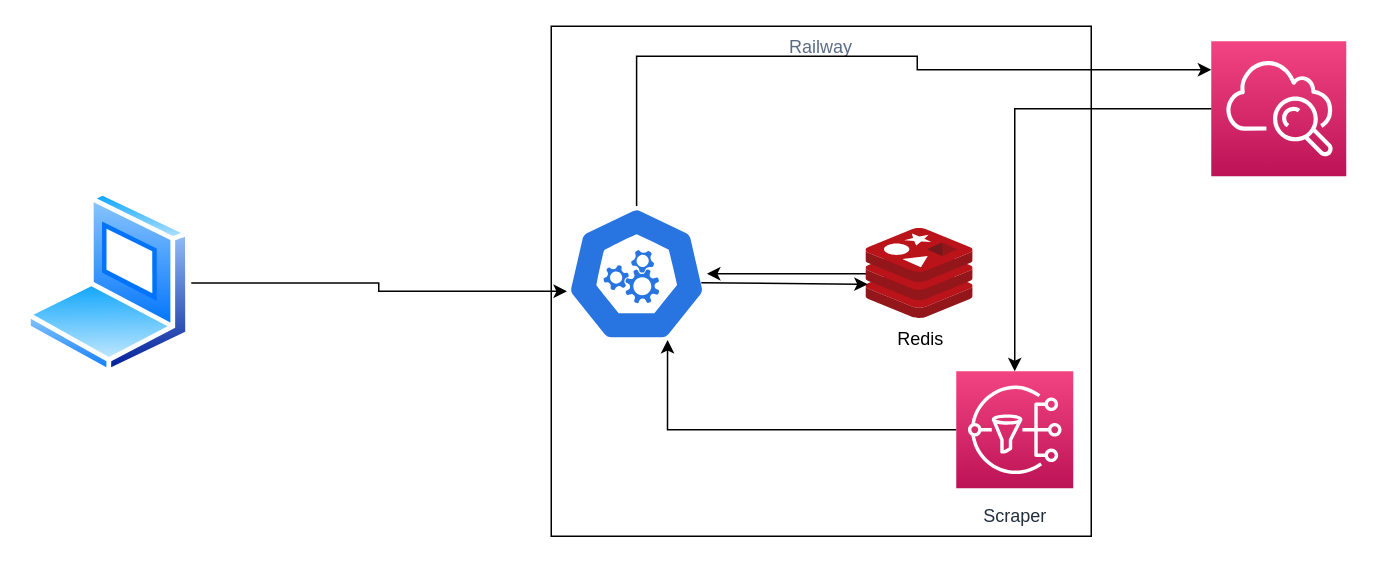
Image size: 1373x563. Some labels were removed from this diagram. The box of each missing label's shape, as (x1, y1, x2, y2) in pixels:
API: (565, 205, 707, 341)
Site Embrapa: (1210, 40, 1346, 176)
